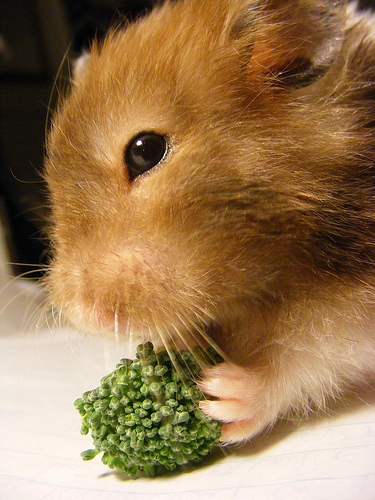broccoli: (72, 338, 223, 478)
